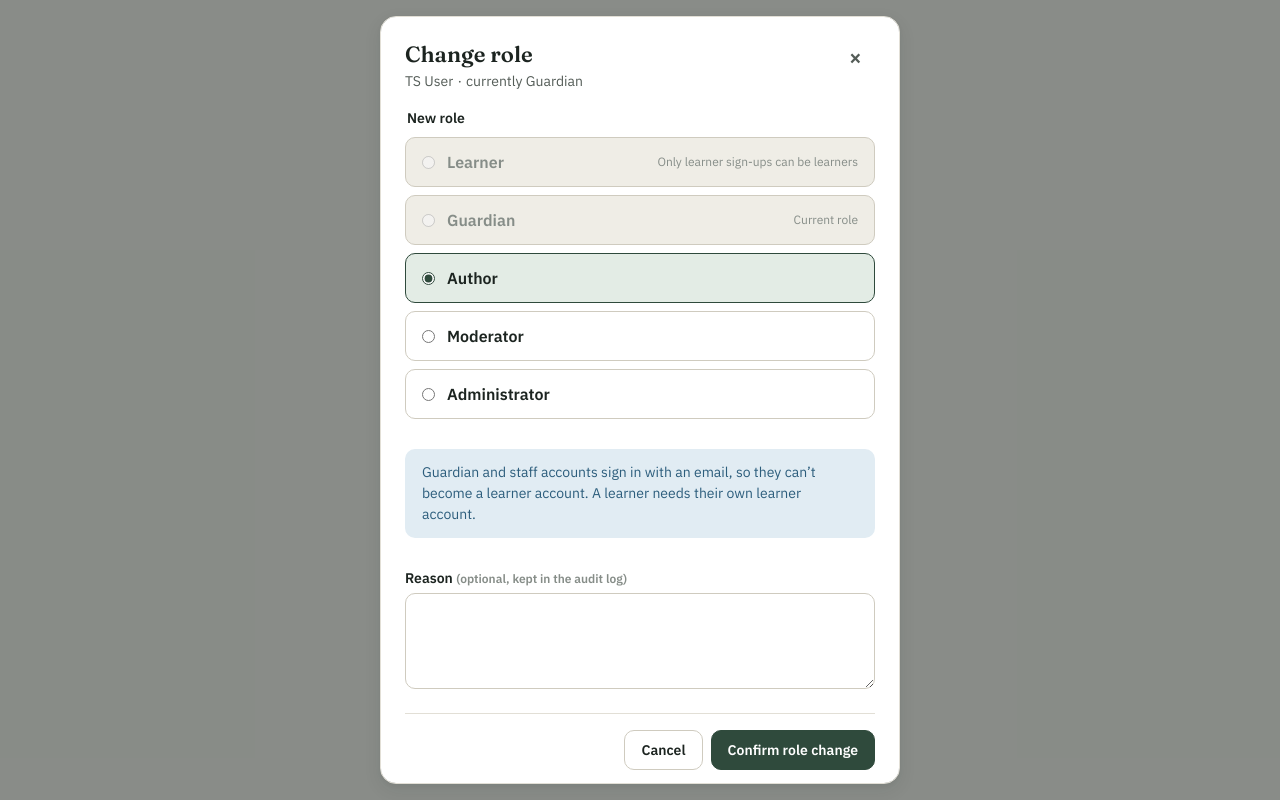
Test: LIN-22 administrator UI › shows a role-change 409 message inside the modal
The width and height of the screenshot is (1280, 800).
What coordinates should you click on to do the following:
click the button "Confirm role change"
I would click on:
 (793, 750)
Its box is 711,730 -> 875,770.
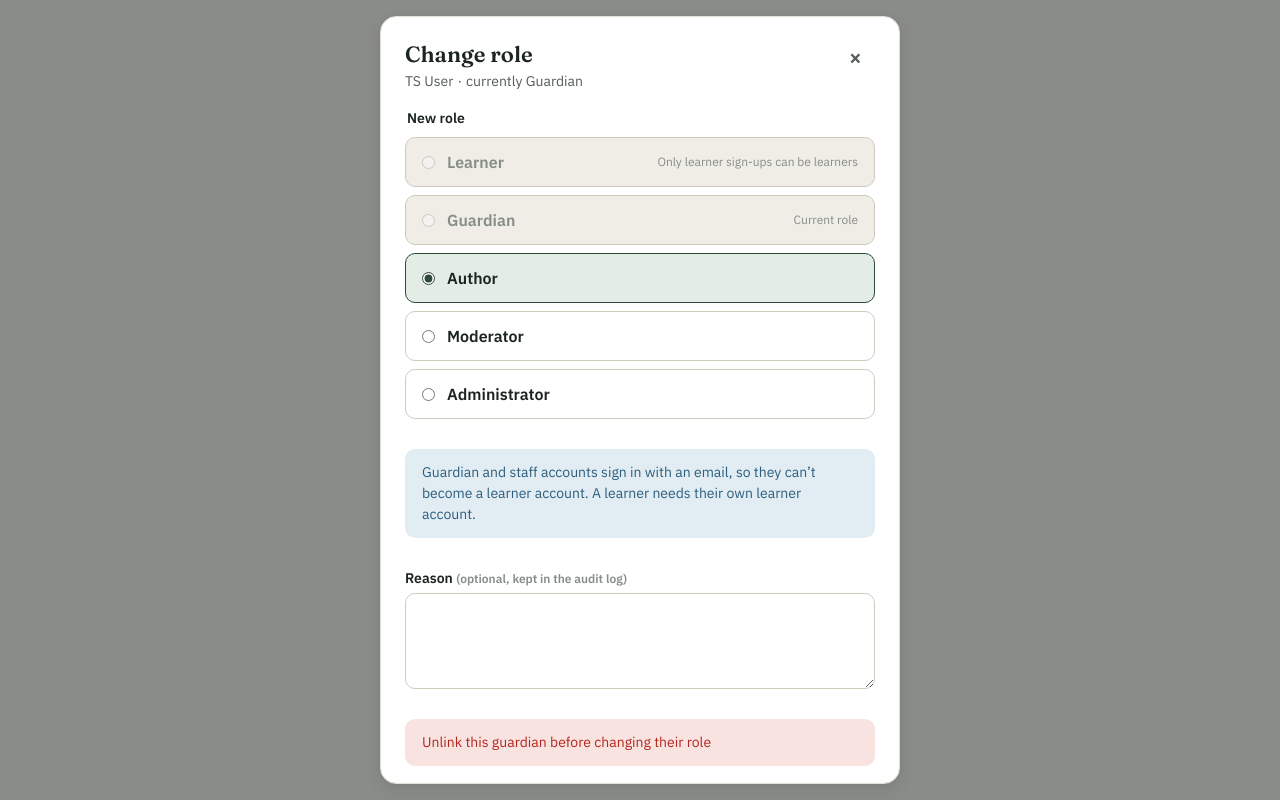
Result: the message "Unlink this guardian before changing their role" is shown at 405,719 -> 875,766
